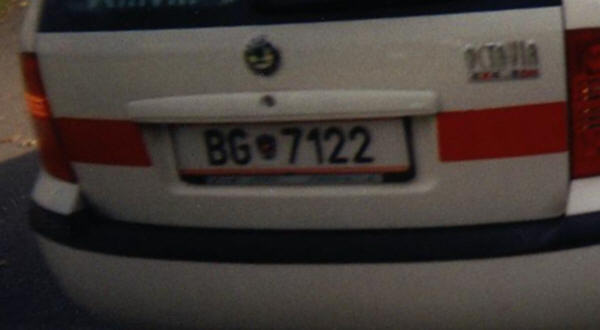license_plate: (167, 121, 415, 179)
